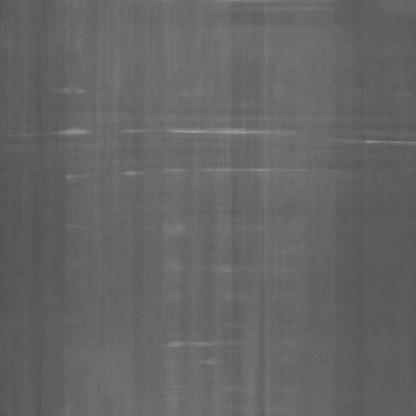waist_folding: (17, 49, 416, 221), (152, 293, 334, 412)
